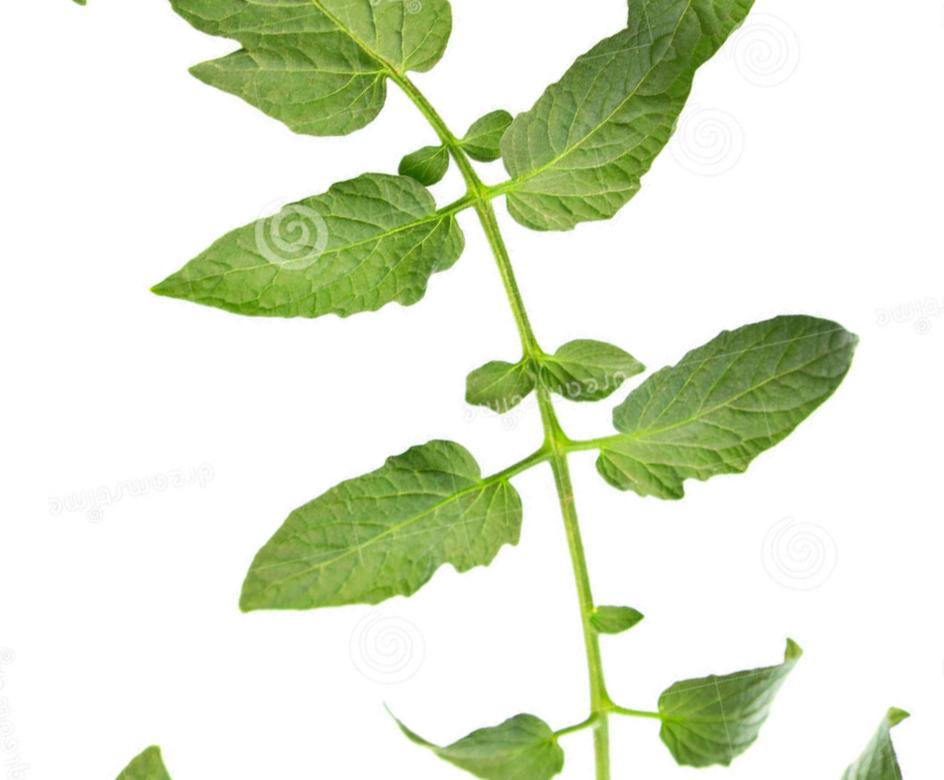Tomato leaf: (163, 328, 609, 775), (556, 217, 938, 609), (112, 55, 487, 430), (388, 0, 763, 318), (121, 0, 496, 197), (616, 570, 846, 780), (358, 617, 599, 780)
